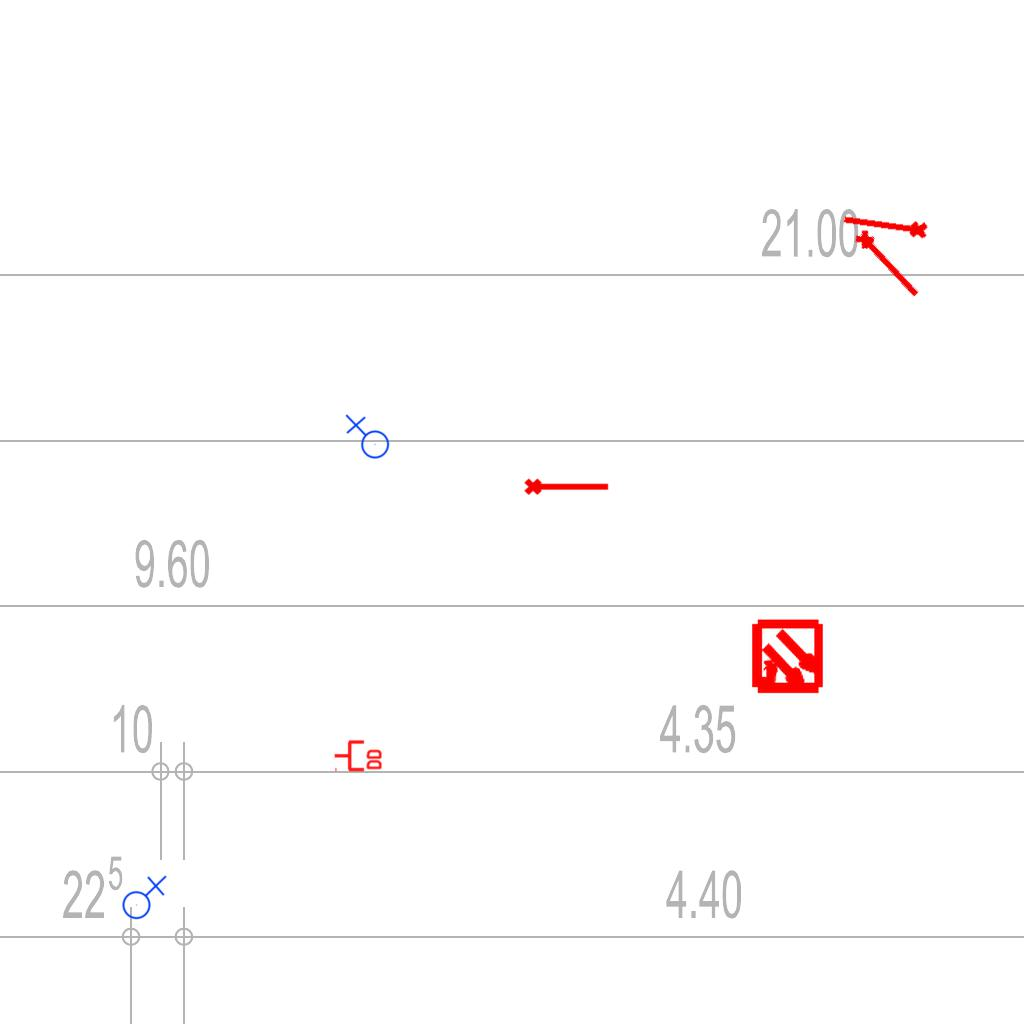ASR_Ansaugoeffnung: (850, 223, 928, 304), (839, 208, 931, 245), (523, 474, 611, 497)
Datenanschluss_zweifach: (333, 738, 384, 772)
Elektroanschluss_allgemein_230V_Geraeteanschlussdose_230V: (118, 873, 167, 920), (343, 414, 390, 463)
OT_Multisensormelder_(Kombination_RMO_WMD): (731, 602, 844, 715)
